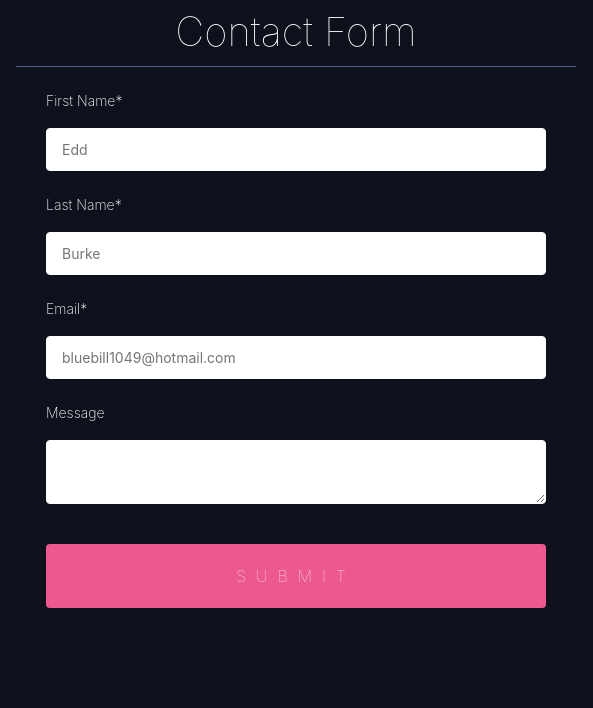
8 renders all firstName, lastName and email text when submitted. Does NOT render message if message is not submitted.
The width and height of the screenshot is (593, 708).
# Act user inputs each and clicks submit button no message until after clicked
Type "William" into the field labelled "First Name*" at (296, 150), box top-left (46, 128), bottom-right (546, 171)
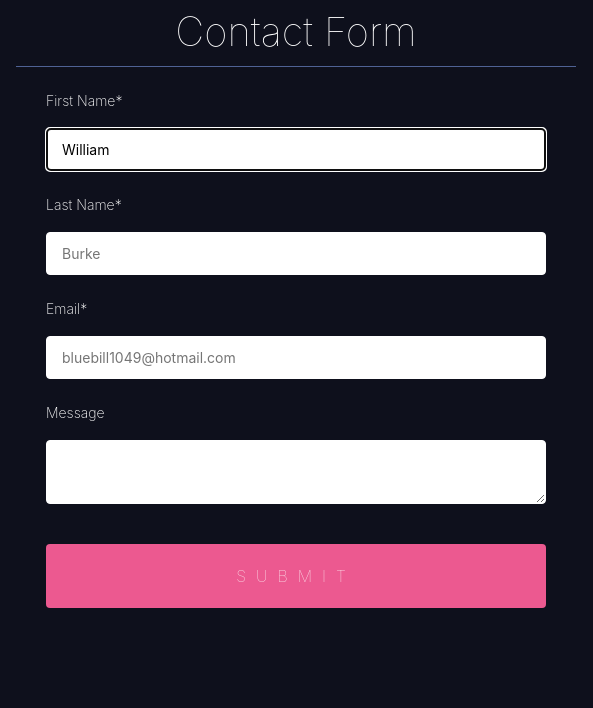
Type "Mansfield" into the field labelled "Last Name*" at (296, 254), box top-left (46, 232), bottom-right (546, 275)
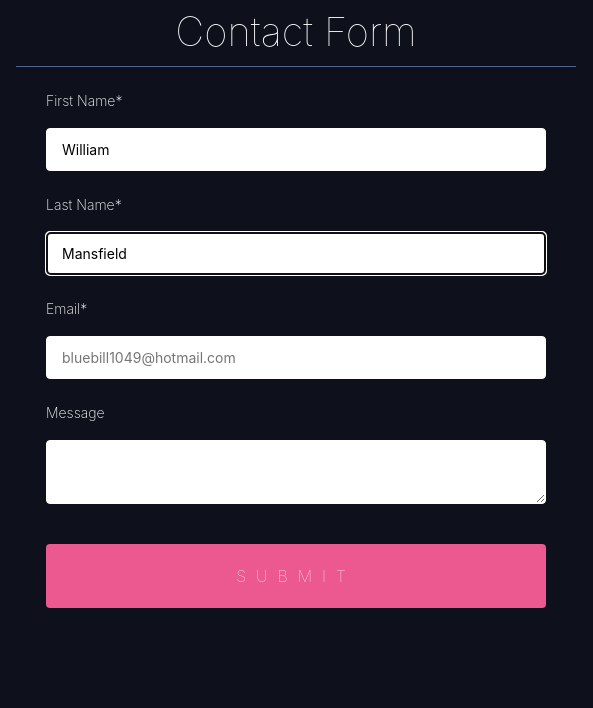
Type "RicksMyCodeGuy@gmail.com" into the field labelled "Email*" at (296, 358), box top-left (46, 336), bottom-right (546, 379)
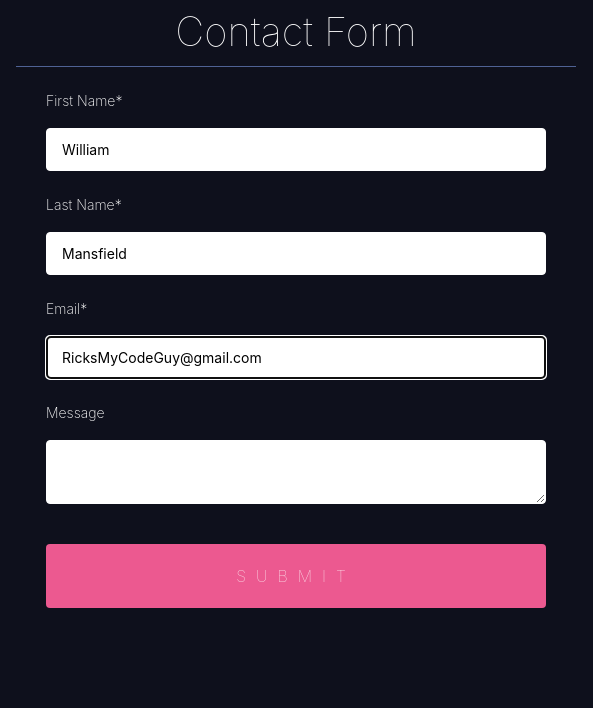
Expected: the text "you submitted" is not shown
Click the button at (296, 576), box top-left (46, 544), bottom-right (546, 608)
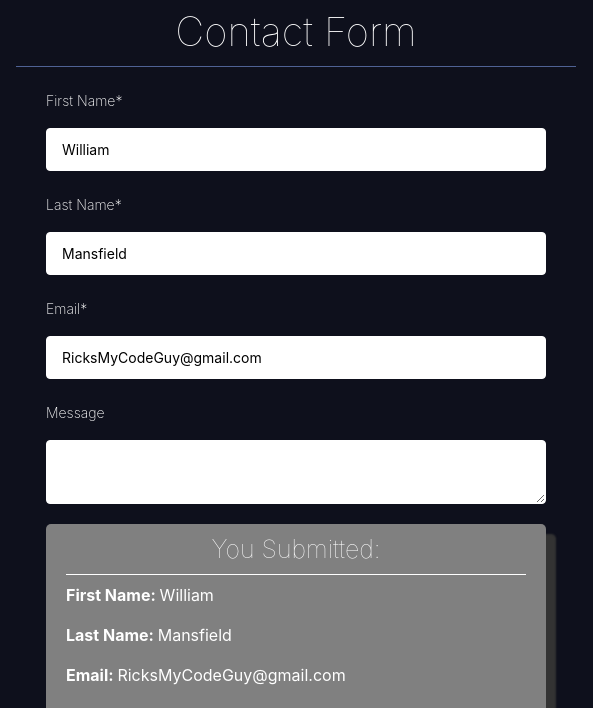
Expected: the element with test id "firstnameDisplay" is shown, top-left (66, 585), bottom-right (214, 605)
Expected: the element with test id "lastnameDisplay" is shown, top-left (66, 625), bottom-right (232, 645)
Expected: the element with test id "emailDisplay" is shown, top-left (66, 665), bottom-right (346, 685)
